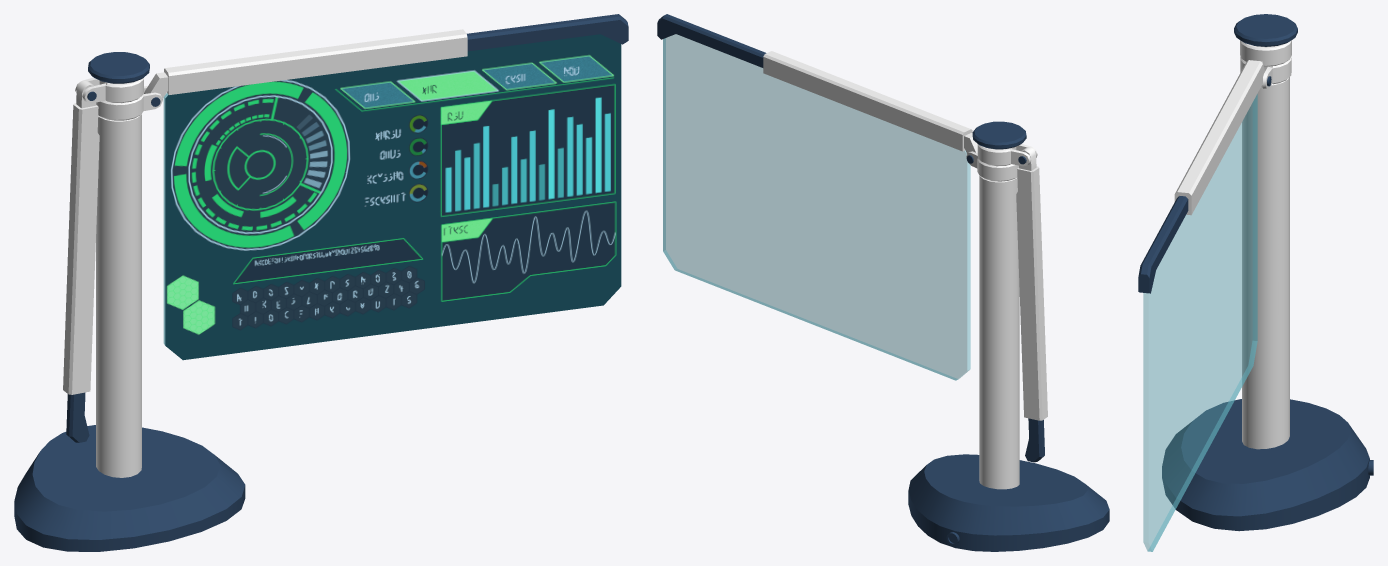
The model's file is Misc_CyberScreen_B.glb.
3 renders of one model, left to right at view 1: azimuth 30°, elevation 25°; view 2: azimuth 150°, elevation 25°; view 3: azimuth 270°, elevation 25°, orthographic. The views are drawn at different scales.
Parts seen in each view (by area): view 1: Misc_CyberScreen_B.001; view 2: Misc_CyberScreen_B.001; view 3: Misc_CyberScreen_B.001.
Part boxes in pixels (<box>): Misc_CyberScreen_B.001: <box>14,14,628,551</box>; Misc_CyberScreen_B.001: <box>657,14,1109,551</box>; Misc_CyberScreen_B.001: <box>1138,14,1373,551</box>.
Bounding box in the file's own units: 0.4946 × 0.3747 × 0.1768.
5 materials, 1 textured.
